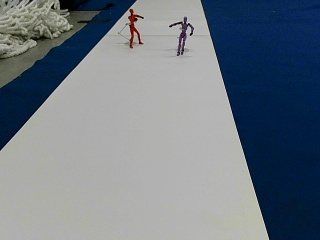pedestrian: (169, 15, 193, 54), (127, 8, 143, 47)
